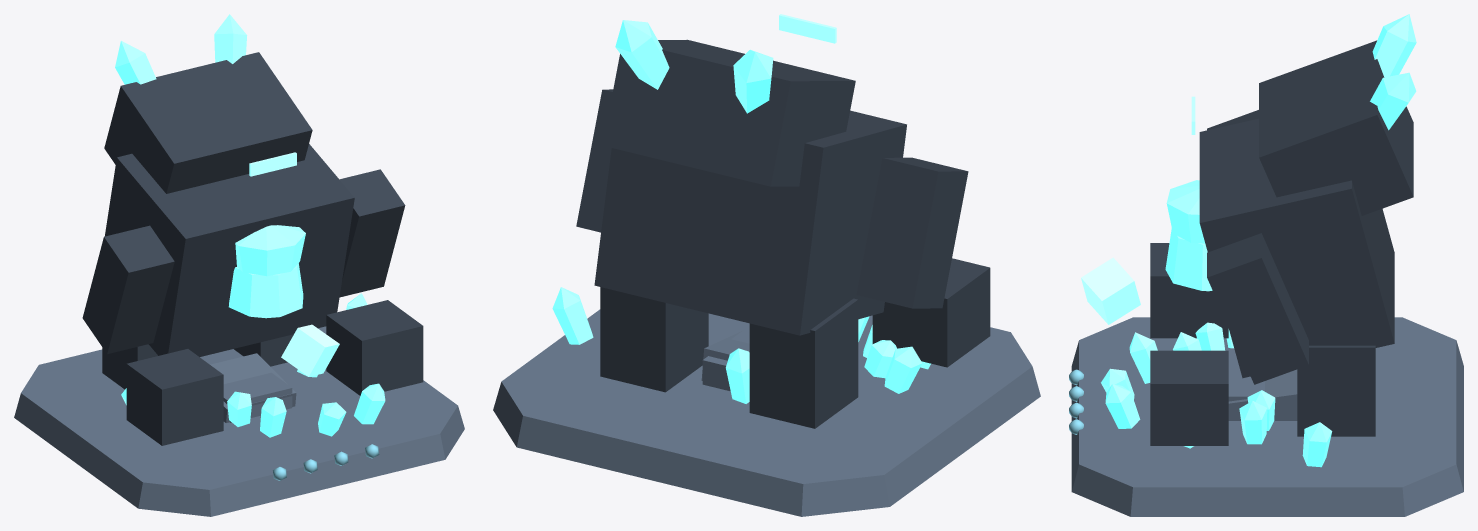
File: SapphireColossusDropper_Roblox.fbx
3 views of the same model, side by side, from view 1: azimuth 30°, elevation 25°; view 2: azimuth 150°, elevation 25°; view 3: azimuth 270°, elevation 25° (orthographic). The views are drawn at different scales.
Visible parts, largest first — view 1: DarkPlate, SteelPlate, Crystal, Ore, CoreGlow, AccentNeon; view 2: DarkPlate, SteelPlate, Crystal, CoreGlow; view 3: DarkPlate, SteelPlate, Crystal, Ore, AccentNeon.
Boxes of the visible parts, left/top/right/bottom form: DarkPlate: left=82, top=52, right=423, bottom=445; SteelPlate: left=14, top=326, right=464, bottom=516; Crystal: left=115, top=14, right=385, bottom=437; Ore: left=281, top=324, right=339, bottom=376; CoreGlow: left=249, top=152, right=296, bottom=176; AccentNeon: left=273, top=444, right=379, bottom=480; DarkPlate: left=576, top=39, right=990, bottom=428; SteelPlate: left=493, top=309, right=1040, bottom=516; Crystal: left=552, top=20, right=930, bottom=403; CoreGlow: left=779, top=14, right=836, bottom=43; DarkPlate: left=1150, top=40, right=1413, bottom=445; SteelPlate: left=1071, top=317, right=1463, bottom=516; Crystal: left=1101, top=14, right=1416, bottom=467; Ore: left=1081, top=257, right=1140, bottom=324; AccentNeon: left=1069, top=369, right=1083, bottom=434.
Size of the model in its own units: 850 by 931 by 805.
